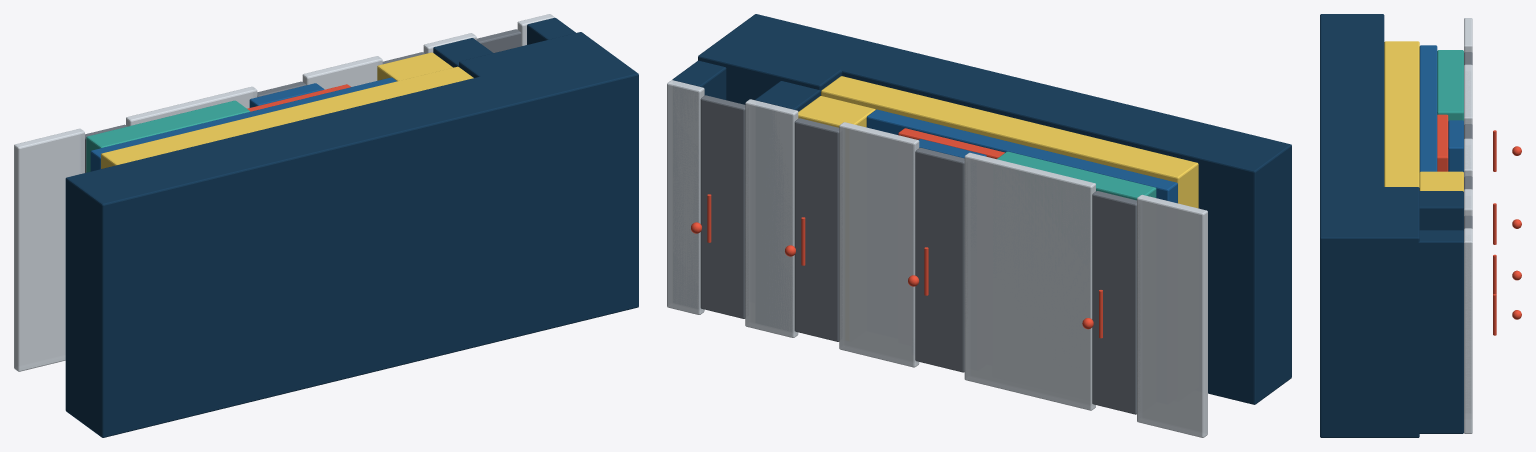
Rendered from sige_hbt_sentaurus.glb.
The picture shows the model from 3 angles, left to right: view 1: azimuth 30°, elevation 25°; view 2: azimuth 150°, elevation 25°; view 3: azimuth 270°, elevation 25°; orthographic projection. The views are drawn at different scales.
Parts seen in each view (by area): view 1: P_Substrate_Bulk, Oxide_Passivation_Left, N_Plus_Buried_Layer, P_Base_SiGe_Extrinsic, N_Minus_Epitaxy, Oxide_Passivation_EC, Oxide_Passivation_BE, Collector_Sinker, P_Plus_Isolation_Well_Center, P_Plus_Isolation_Well_Right, Contact_Substrate, N_Plus_Emitter; view 2: P_Substrate_Bulk, Oxide_Passivation_BE, Oxide_Passivation_EC, Oxide_Passivation_Left, Oxide_Passivation_CS, Contact_Emitter, N_Plus_Buried_Layer, Contact_Collector, Contact_Substrate, Contact_Base, Oxide_Passivation_Right, N_Minus_Epitaxy (+5 smaller); view 3: P_Substrate_Bulk, P_Plus_Isolation_Well_Right, N_Plus_Buried_Layer, N_Minus_Epitaxy, Oxide_Passivation_Right, P_Base_SiGe_Extrinsic, P_Plus_Isolation_Well_Center, Collector_Sinker, N_Plus_Emitter, Intrinsic_Active_Transistor_Core, Oxide_Passivation_BE, Oxide_Passivation_EC (+2 smaller).
Part boxes in pixels (box(x1,y1,x2,y2)): P_Substrate_Bulk: box(65, 32, 638, 437); Oxide_Passivation_Left: box(14, 128, 84, 371); N_Plus_Buried_Layer: box(101, 66, 473, 168); P_Base_SiGe_Extrinsic: box(86, 100, 250, 172); N_Minus_Epitaxy: box(90, 77, 396, 171); Oxide_Passivation_EC: box(302, 56, 382, 89); Oxide_Passivation_BE: box(126, 86, 257, 126); Collector_Sinker: box(377, 52, 452, 81); P_Plus_Isolation_Well_Center: box(433, 38, 493, 67); P_Plus_Isolation_Well_Right: box(527, 17, 575, 44); Contact_Substrate: box(476, 29, 521, 52); N_Plus_Emitter: box(249, 83, 324, 107); P_Substrate_Bulk: box(698, 14, 1291, 404); Oxide_Passivation_BE: box(964, 152, 1095, 410); Oxide_Passivation_EC: box(839, 122, 919, 367); Oxide_Passivation_Left: box(1137, 194, 1207, 437); Oxide_Passivation_CS: box(745, 99, 798, 337); Contact_Emitter: box(915, 147, 964, 372); N_Plus_Buried_Layer: box(821, 76, 1198, 208); Contact_Collector: box(794, 118, 839, 341); Contact_Substrate: box(700, 95, 745, 318); Contact_Base: box(1092, 191, 1136, 414); Oxide_Passivation_Right: box(667, 80, 704, 314); N_Minus_Epitaxy: box(866, 109, 1177, 203); P_Substrate_Bulk: box(1320, 14, 1419, 437); P_Plus_Isolation_Well_Right: box(1343, 230, 1463, 433); N_Plus_Buried_Layer: box(1384, 41, 1419, 187); N_Minus_Epitaxy: box(1419, 45, 1437, 172); Oxide_Passivation_Right: box(1464, 228, 1472, 433); P_Base_SiGe_Extrinsic: box(1437, 50, 1463, 120); P_Plus_Isolation_Well_Center: box(1419, 191, 1463, 230); Collector_Sinker: box(1419, 171, 1463, 191); N_Plus_Emitter: box(1448, 120, 1463, 172); Intrinsic_Active_Transistor_Core: box(1437, 114, 1448, 171); Oxide_Passivation_BE: box(1464, 64, 1472, 124); Oxide_Passivation_EC: box(1464, 138, 1472, 176).
Bounding box in the file's own units: 24 × 10 × 9.12.
